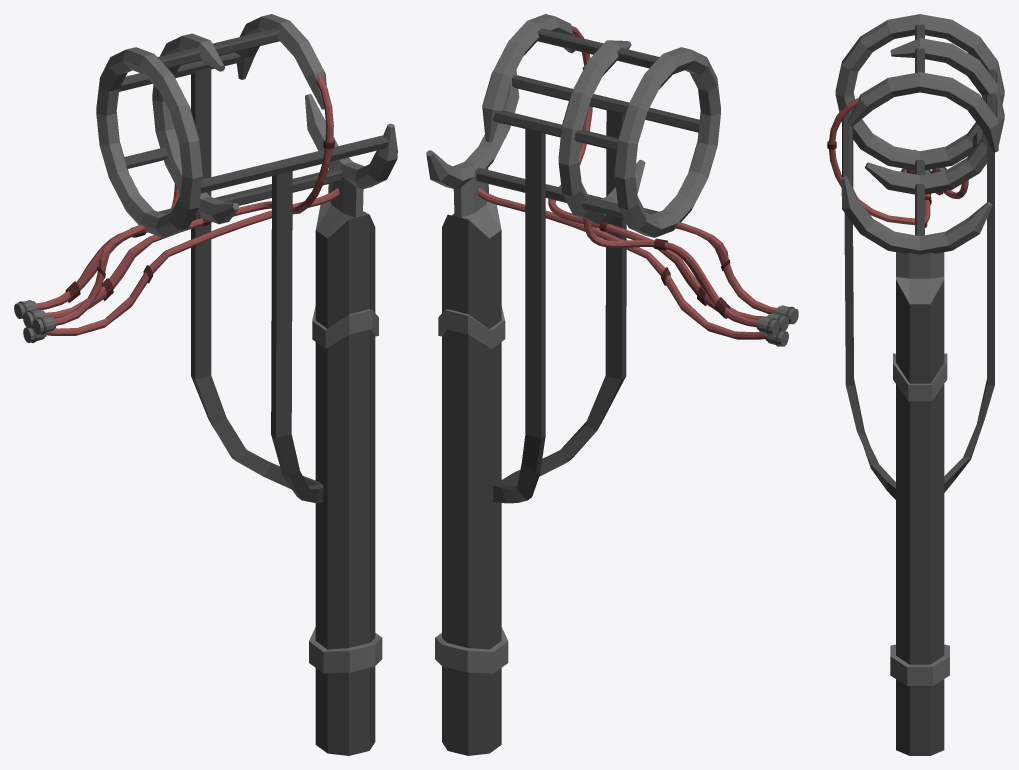
File: BetInput.fbx
3 renders of one model, left to right at view 1: azimuth 30°, elevation 25°; view 2: azimuth 150°, elevation 25°; view 3: azimuth 270°, elevation 25°, orthographic. The views are drawn at different scales.
Visible parts, largest first — view 1: Taromatas; view 2: Taromatas; view 3: Taromatas.
Part boxes in pixels (x1=…): Taromatas: x1=14, y1=14, x2=397, y2=755; Taromatas: x1=426, y1=14, x2=798, y2=755; Taromatas: x1=827, y1=14, x2=1004, y2=755.
Size of the model in its own units: 0.8692 by 1.77 by 0.4406.
